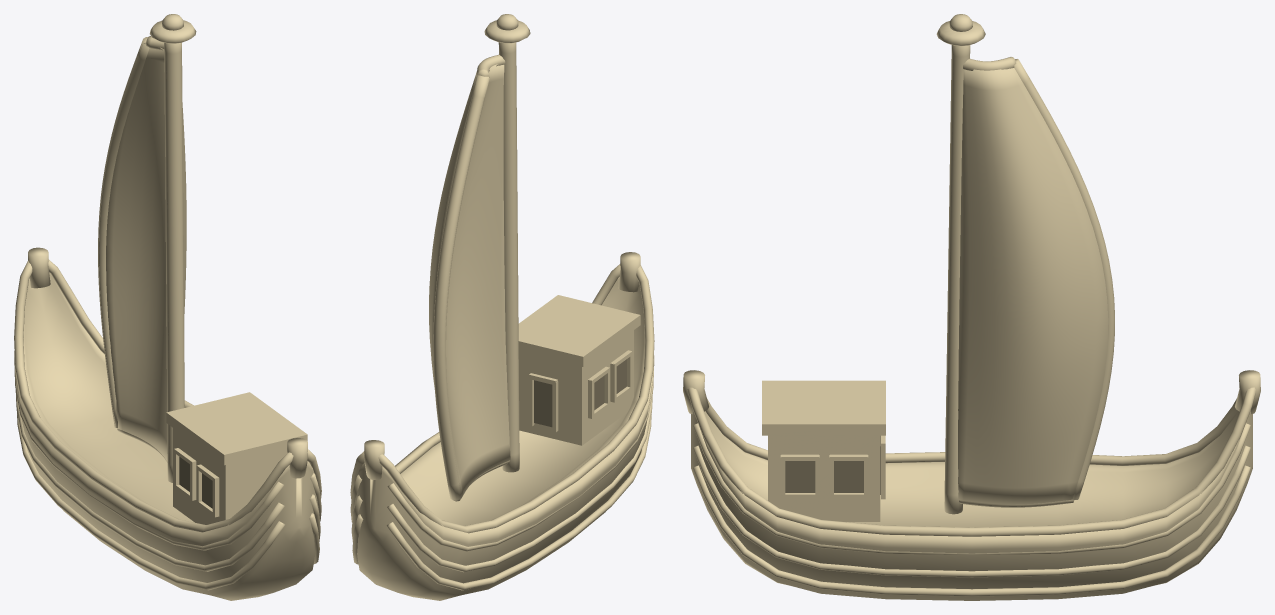
Rendered from ship-ivory.fbx.
3 renders of one model, left to right at view 1: azimuth 30°, elevation 25°; view 2: azimuth 150°, elevation 25°; view 3: azimuth 270°, elevation 25°, orthographic. The views are drawn at different scales.
Visible parts, largest first — view 1: Ship_Plastic_Sculpt, Ship_Window_Recesses; view 2: Ship_Plastic_Sculpt, Ship_Window_Recesses; view 3: Ship_Plastic_Sculpt, Ship_Window_Recesses.
Part boxes in pixels (bbox=[...]): Ship_Plastic_Sculpt: bbox=[14, 14, 321, 600]; Ship_Window_Recesses: bbox=[179, 457, 212, 508]; Ship_Plastic_Sculpt: bbox=[350, 14, 654, 600]; Ship_Window_Recesses: bbox=[534, 359, 626, 427]; Ship_Plastic_Sculpt: bbox=[683, 14, 1260, 600]; Ship_Window_Recesses: bbox=[785, 435, 880, 494].
Bounding box in the file's own units: 0.009 × 0.028 × 0.026.
